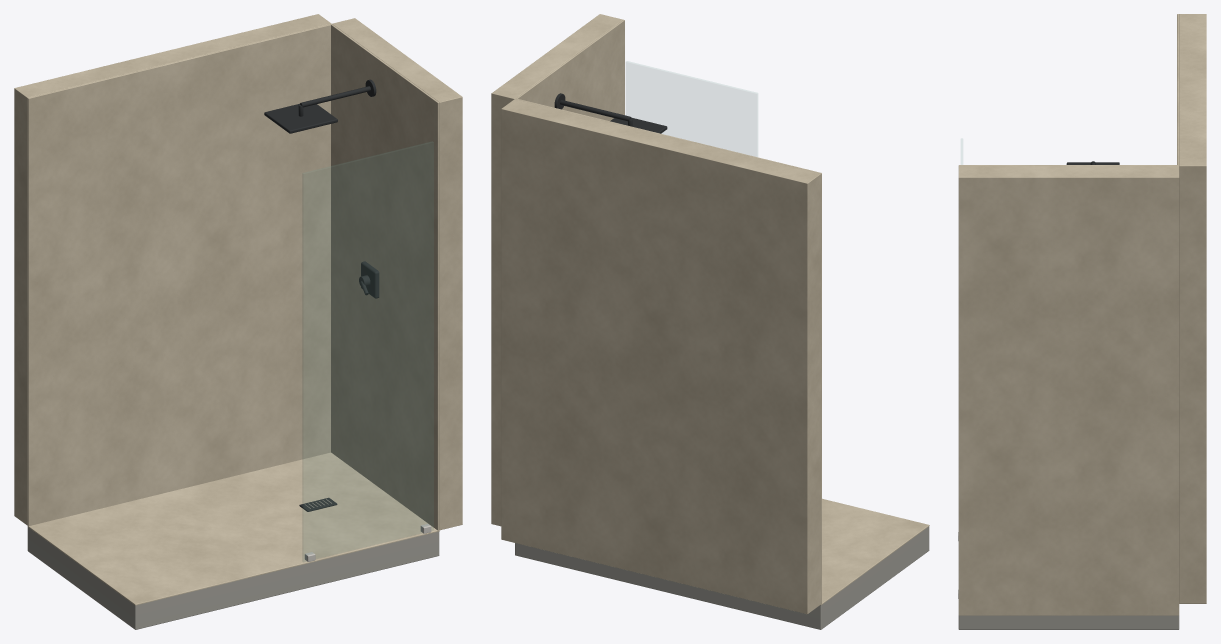
The model's file is microcement-tub-to-shower-conversion-west-seattle.glb.
3 renders of one model, left to right at view 1: azimuth 30°, elevation 25°; view 2: azimuth 150°, elevation 25°; view 3: azimuth 270°, elevation 25°, orthographic. The views are drawn at different scales.
Parts seen in each view (by area): view 1: Trowelled shower wall · trowelled face, Frameless open screen, Shower fitting wall · trowelled face, Continuous microcement pan · finish, Shower fitting wall · wall core, Continuous microcement pan · foundation, Trowelled shower wall · wall core, Square rain shower plate; view 2: Trowelled shower wall · wall core, Frameless open screen, Shower fitting wall · wall core, Continuous microcement pan · foundation, Continuous microcement pan · finish, Shower fitting wall · trowelled face, Trowelled shower wall · trowelled face; view 3: Shower fitting wall · wall core, Trowelled shower wall · wall core, Continuous microcement pan · foundation, Trowelled shower wall · trowelled face.
Part boxes in pixels (box(x1,y1,x2,y2)): Trowelled shower wall · trowelled face: box(27, 24, 330, 526); Frameless open screen: box(303, 142, 433, 561); Shower fitting wall · trowelled face: box(331, 23, 439, 530); Continuous microcement pan · finish: box(27, 452, 439, 605); Shower fitting wall · wall core: box(332, 18, 462, 530); Continuous microcement pan · foundation: box(27, 527, 439, 629); Trowelled shower wall · wall core: box(14, 14, 331, 525); Square rain shower plate: box(264, 103, 337, 133); Trowelled shower wall · wall core: box(501, 99, 820, 614); Frameless open screen: box(626, 61, 757, 156); Shower fitting wall · wall core: box(491, 14, 622, 526); Continuous microcement pan · foundation: box(515, 526, 929, 629); Continuous microcement pan · finish: box(820, 498, 929, 605); Shower fitting wall · trowelled face: box(515, 19, 624, 121); Trowelled shower wall · trowelled face: box(515, 98, 821, 604); Shower fitting wall · wall core: box(958, 166, 1179, 615); Trowelled shower wall · wall core: box(1179, 14, 1206, 603); Continuous microcement pan · foundation: box(958, 615, 1179, 629); Trowelled shower wall · trowelled face: box(1177, 14, 1179, 165).
Size of the model in its own units: 1.75 by 2.32 by 1.13.
Materials: 6 (2 with a texture image).
